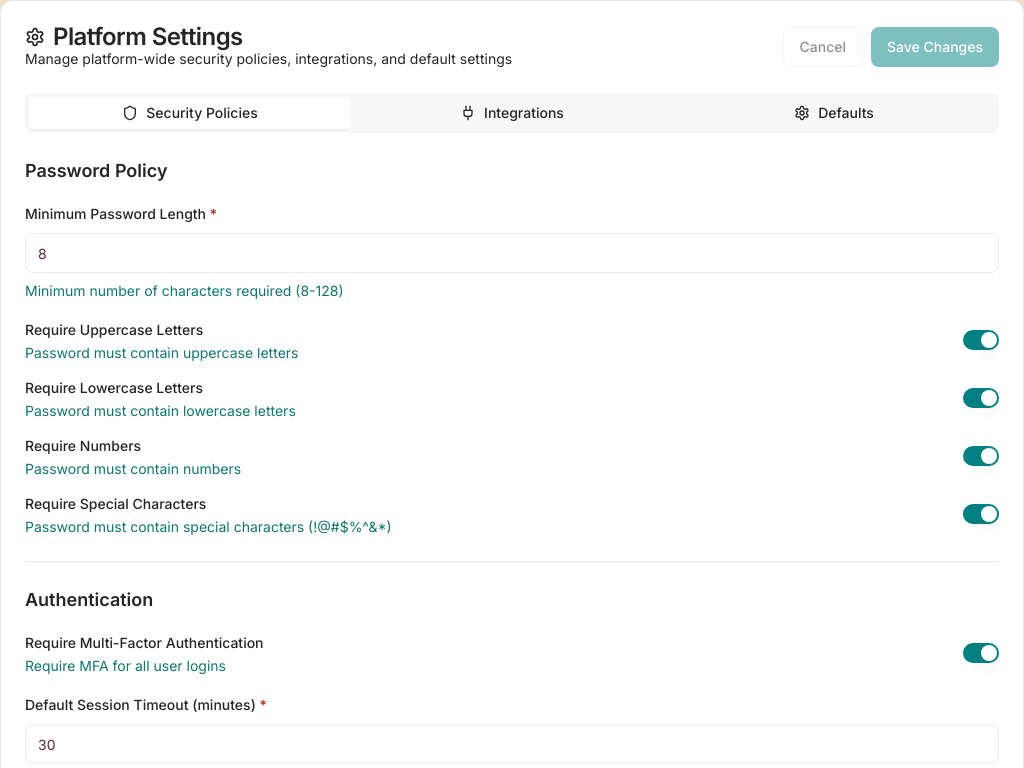
PlatformSettings › Tabs Navigation › should switch between tabs
Expected: the tab "Security Policies" is shown, [29, 97, 351, 129]
Click the tab "Integrations". click: [512, 113]
box: [351, 97, 673, 129]
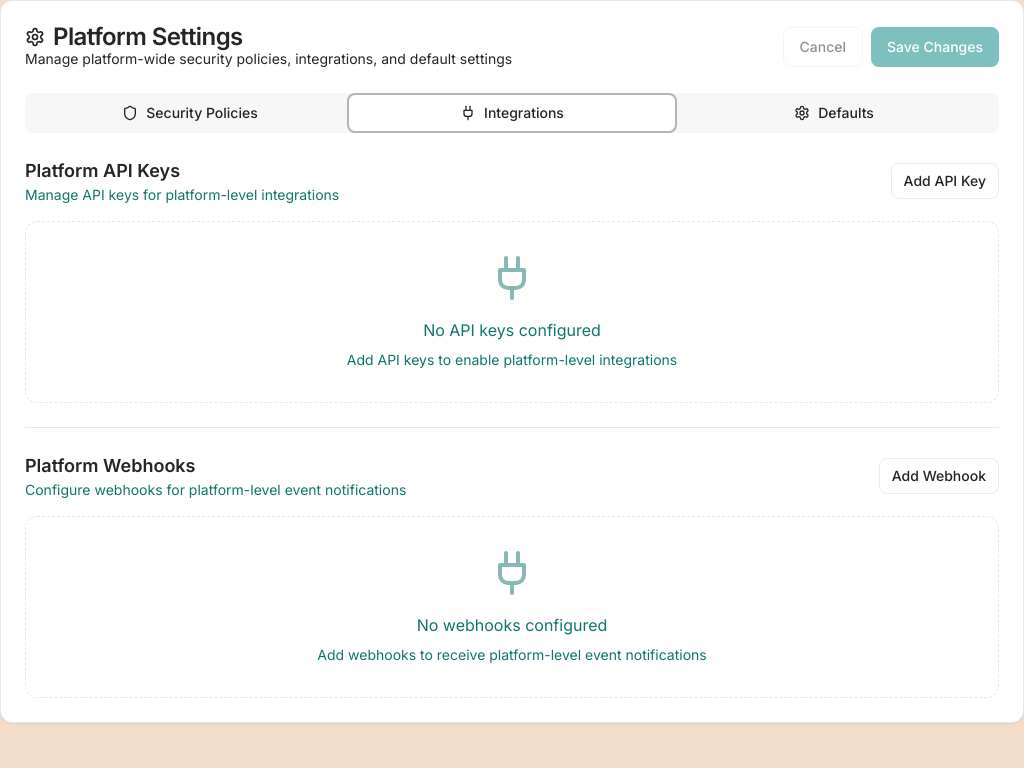
Now the heading "Platform API Keys" is shown, box [25, 160, 180, 181]
Click the tab "Defaults". click: [834, 113]
box: [673, 97, 995, 129]
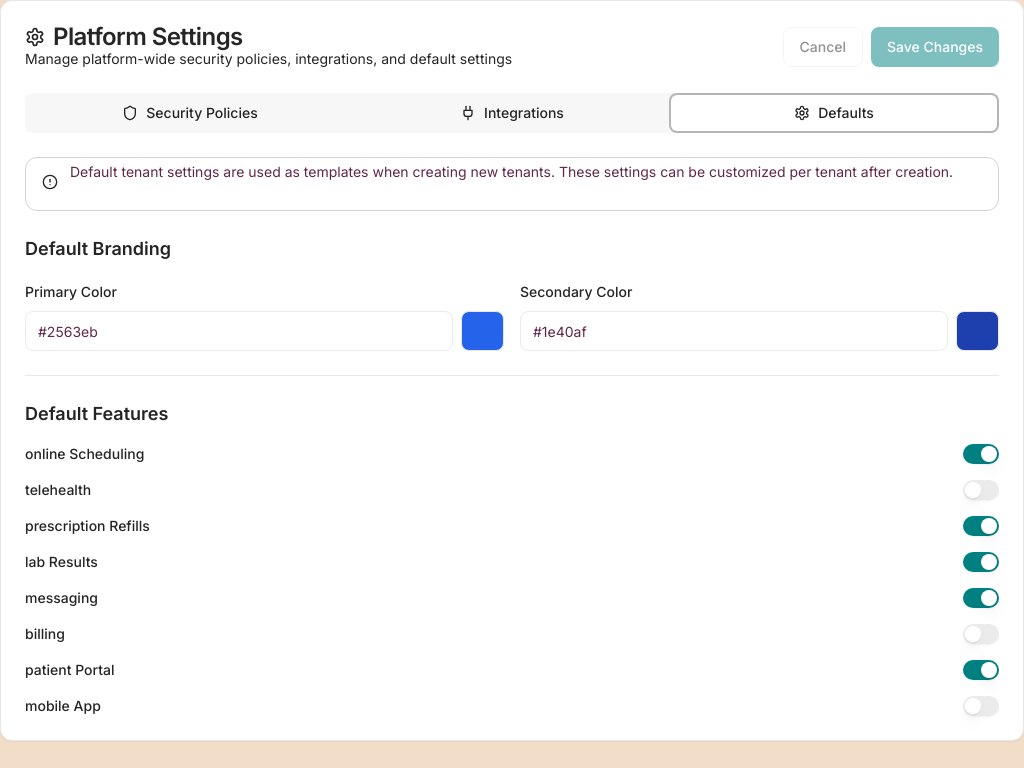
Now the heading "Default Branding" is shown, box [25, 238, 171, 259]
